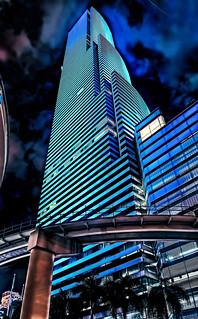building: (23, 6, 163, 319)
